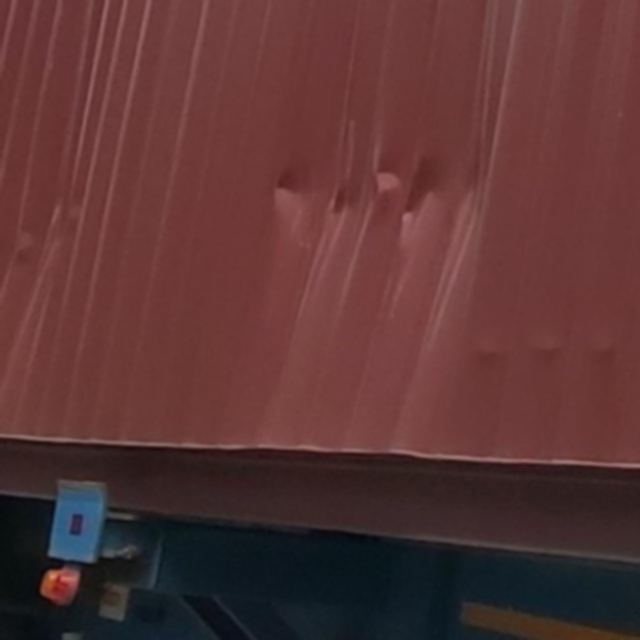Dent: (260, 92, 494, 334), (4, 54, 124, 358)
